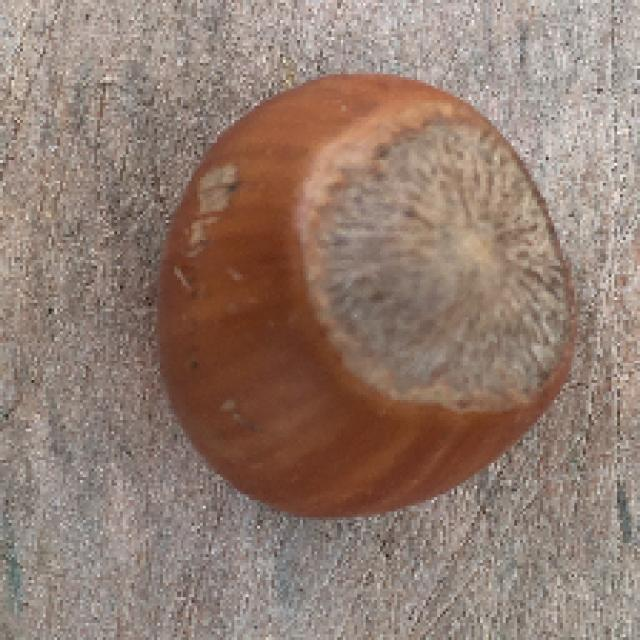DamagedHazelnut: (153, 69, 573, 524)
